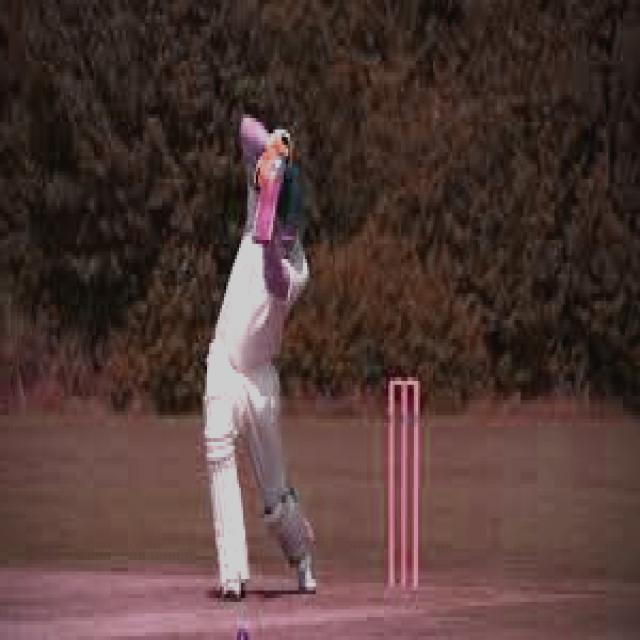bat: (248, 155, 288, 250)
toe: (250, 238, 273, 245)
